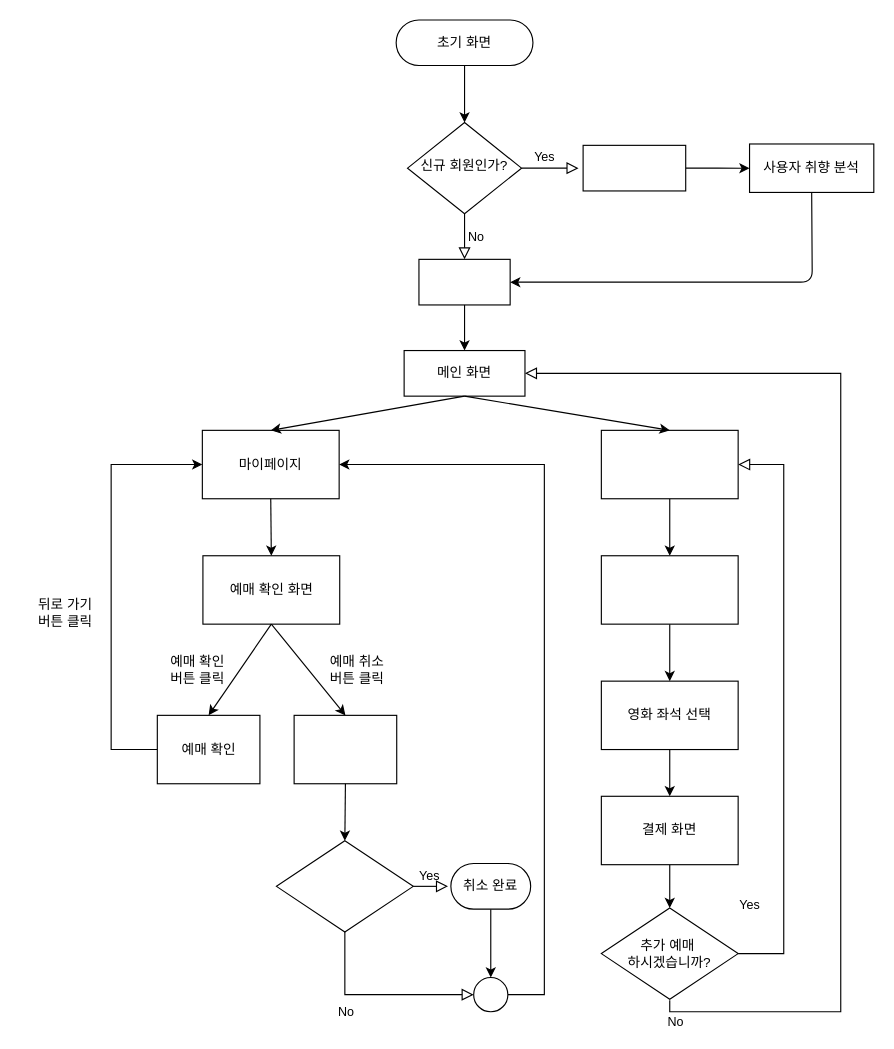
Some shapes in this 894 by 1049 pixel diagram are drawn without their labels. Here are the shapes that lost their labels. From the top down, the centre of each, then its label:
At (634,167): "회원가입".
At (464,281): "로그인".
At (669,464): "영화 선택 화면".
At (669,589): "영화관 지점 선택".
At (345,749): "예매 취소".
At (344,886): "취소하시겠습니까?".
